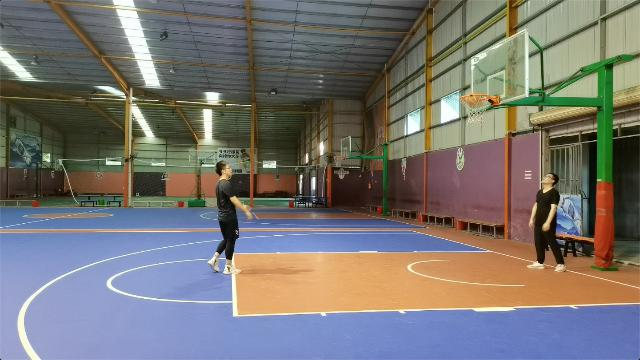basket: (460, 92, 490, 124)
goal: (465, 91, 481, 106)
